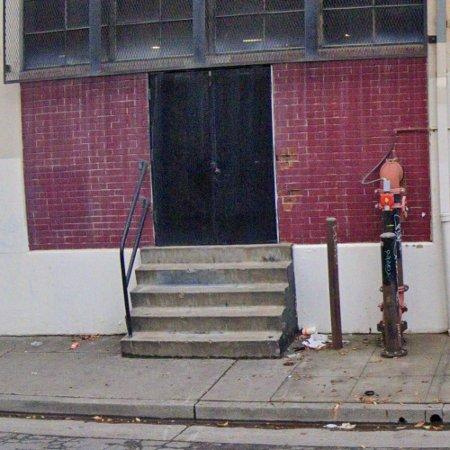stairs: (121, 245, 298, 358)
